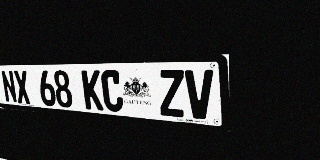6: (37, 70, 57, 107)
8: (53, 70, 73, 108)
C: (100, 70, 124, 112)
K: (81, 70, 104, 111)
N: (0, 70, 18, 103)
V: (185, 70, 214, 120)
X: (13, 70, 31, 104)
Z: (158, 70, 185, 118)
